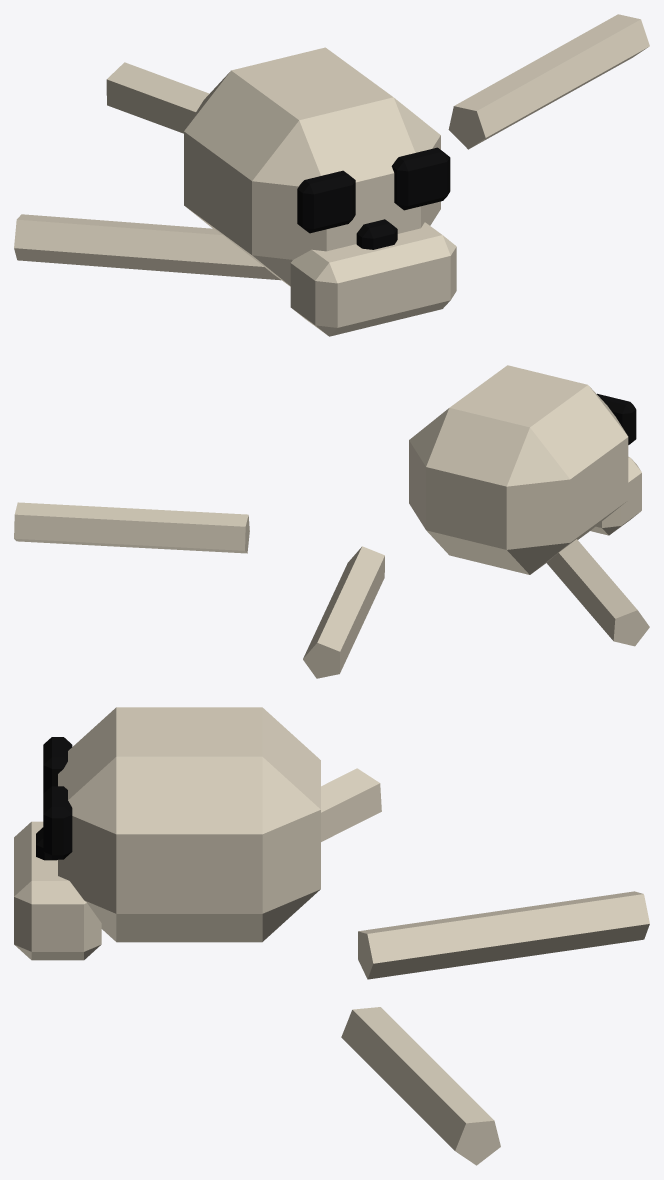
The model's file is skull.glb.
3 views of the same model, one above another, from view 1: azimuth 30°, elevation 25°; view 2: azimuth 150°, elevation 25°; view 3: azimuth 270°, elevation 25° (orthographic). The views are drawn at different scales.
Visible parts, largest first — view 1: Skull; view 2: Skull; view 3: Skull.
Part boxes in pixels (x1,y1,x2,y2): Skull: (14,14,649,336); Skull: (14,365,649,678); Skull: (14,707,649,1165).
Bounding box in the file's own units: 0.5826 × 0.15 × 0.4351.
